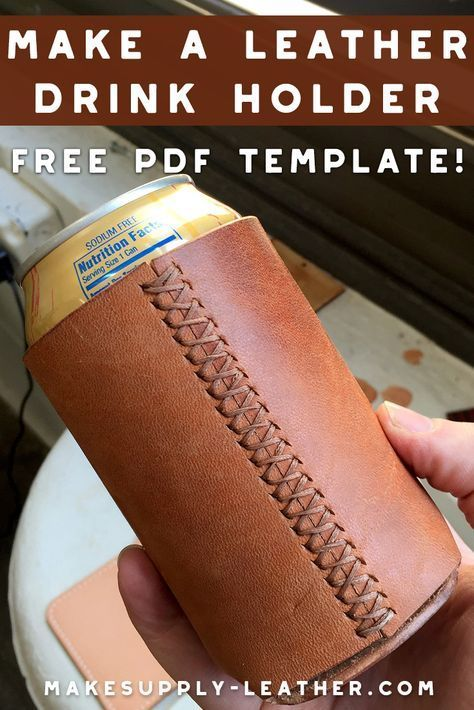cuero: (21, 214, 461, 698)
